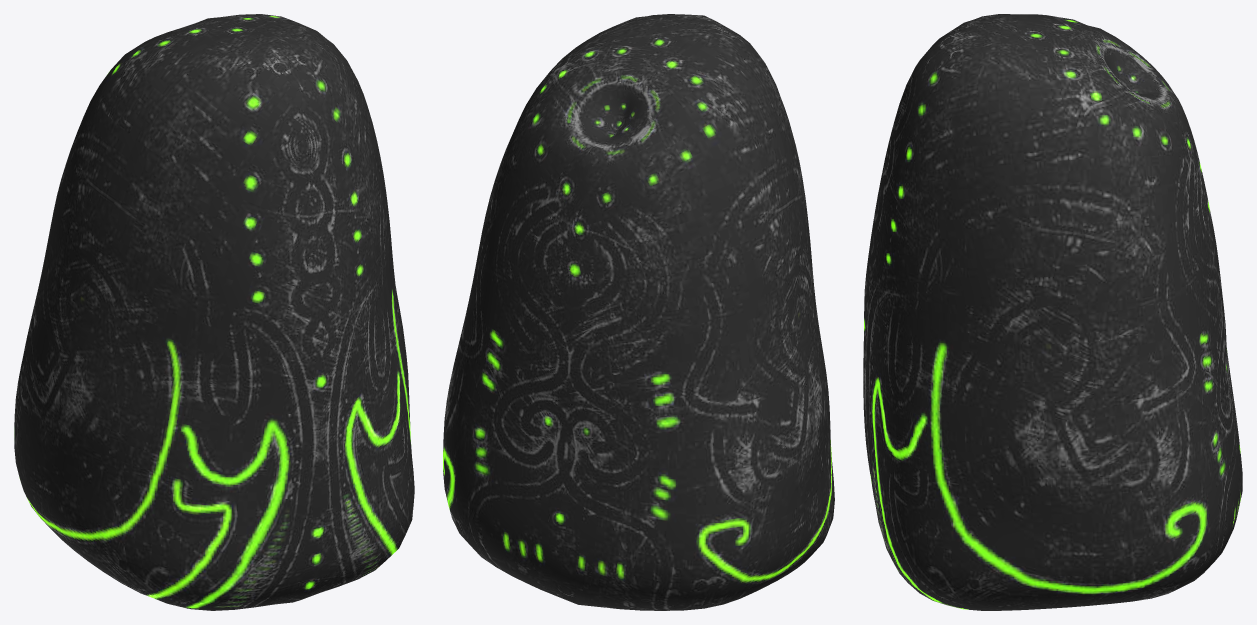
3 renders of one model, left to right at view 1: azimuth 30°, elevation 25°; view 2: azimuth 150°, elevation 25°; view 3: azimuth 270°, elevation 25°, orthographic. The views are drawn at different scales.
Visible parts, largest first — view 1: sm_alienthingy1_jfg_low; view 2: sm_alienthingy1_jfg_low; view 3: sm_alienthingy1_jfg_low.
Boxes of the visible parts, box(x1,y1,x2,y2) form: sm_alienthingy1_jfg_low: box(14, 14, 414, 610); sm_alienthingy1_jfg_low: box(443, 14, 834, 610); sm_alienthingy1_jfg_low: box(863, 14, 1242, 610).
Bounding box in the file's own units: 1.67 × 2.55 × 1.63.
1 material, 1 textured.
